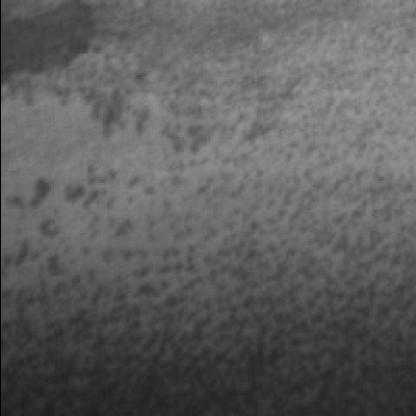patches: (0, 2, 94, 83)
pitted_surface: (2, 125, 410, 410), (8, 29, 398, 208)
